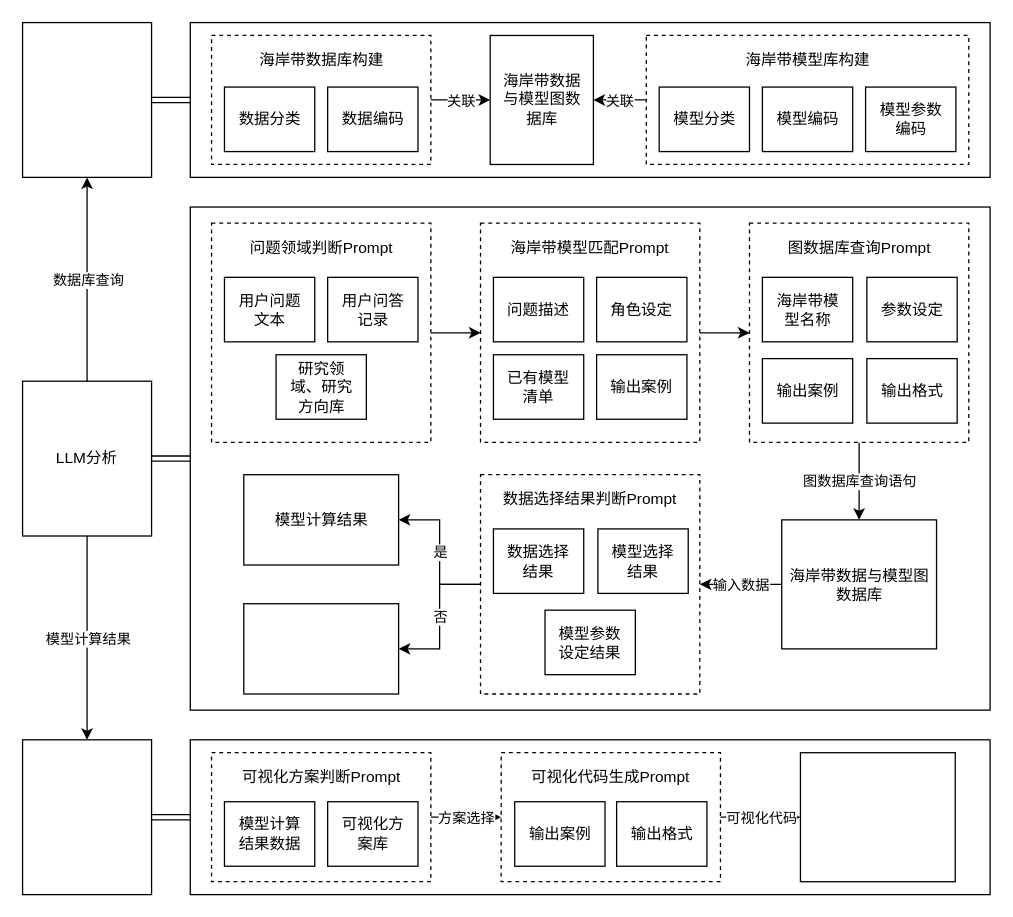
Some shapes in this 1013 by 917 pixel diagram are drawn without their labels. Here are the shapes that lost their labels. From the top down, the centre of each, then its label:
At [86,99]: "构建图数据库".
At [321,648]: "返回错误日志".
At [86,817]: "LLM可视化".
At [877,816]: "前端可视化".
